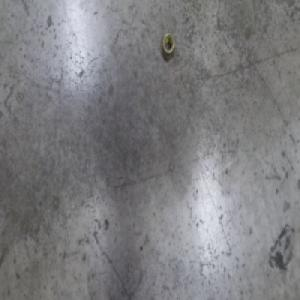Nut: (161, 31, 175, 63)
